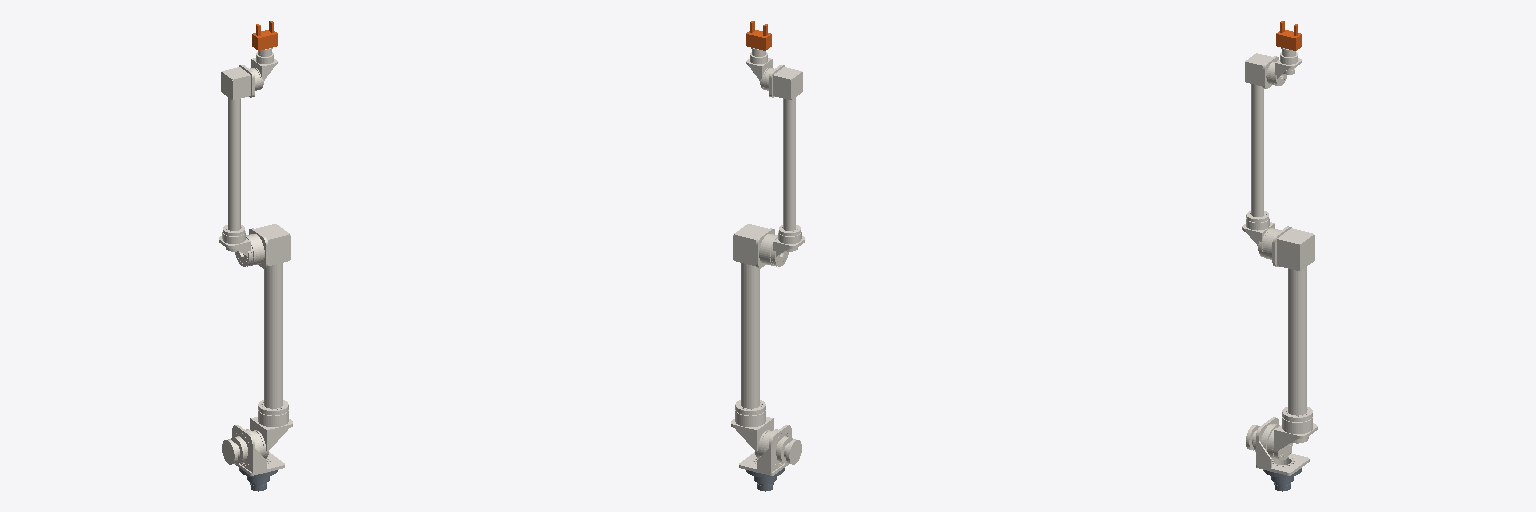
URDF robot description (RTC7):
<?xml version="1.0"?>
<!-- RTC-7 - GENERATED by tools/urdf_export.py from robot/RTC-7-layout.txt, links/LINK-n,
     joints/*; zero pose = the arm stretched up (as in the SolidWorks assembly). Units m, kg, kg*m^2. -->
<robot name="RTC7">
  <material name="link"><color rgba="0.906 0.890 0.855 1"/></material>
  <material name="joint"><color rgba="0.239 0.263 0.294 1"/></material>
  <material name="output"><color rgba="0.663 0.694 0.729 1"/></material>
  <material name="motor"><color rgba="0.145 0.157 0.173 1"/></material>
  <material name="opu"><color rgba="0.490 0.522 0.561 1"/></material>
  <material name="tool"><color rgba="0.910 0.455 0.184 1"/></material>
  <link name="base_link">
    <inertial><origin xyz="0.000000 0.000000 -0.050857" rpy="0 0 0"/><mass value="8.3611"/><inertia ixx="4.553516e-02" ixy="-3.541692e-18" ixz="-7.934830e-19" iyy="4.553516e-02" iyz="-3.295657e-18" izz="5.782221e-02"/></inertial>
    <visual><origin xyz="0 0 0" rpy="0 0 0"/><geometry><mesh filename="meshes/base_link.stl" scale="1 1 1"/></geometry><material name="opu"/></visual>
  </link>
  <link name="link_1">
    <inertial><origin xyz="-0.070477 0.000000 0.092740" rpy="0 0 0"/><mass value="25.9774"/><inertia ixx="2.537331e-01" ixy="-4.162580e-18" ixz="8.081683e-02" iyy="2.976854e-01" iyz="-8.012673e-18" izz="2.140170e-01"/></inertial>
    <visual><origin xyz="0 0 0" rpy="0 0 0"/><geometry><mesh filename="meshes/link_1.stl" scale="1 1 1"/></geometry><material name="link"/></visual>
  </link>
  <link name="link_2">
    <inertial><origin xyz="0.071983 -0.000000 0.104474" rpy="0 0 0"/><mass value="16.2116"/><inertia ixx="1.310031e-01" ixy="2.206815e-18" ixz="-4.930660e-02" iyy="1.559268e-01" iyz="1.013578e-17" izz="1.050967e-01"/></inertial>
    <visual><origin xyz="0 0 0" rpy="0 0 0"/><geometry><mesh filename="meshes/link_2.stl" scale="1 1 1"/></geometry><material name="link"/></visual>
  </link>
  <link name="link_3">
    <inertial><origin xyz="-0.056728 -0.000000 1.002128" rpy="0 0 0"/><mass value="24.0760"/><inertia ixx="5.201550e+00" ixy="-3.607587e-18" ixz="4.477993e-01" iyy="5.277423e+00" iyz="-2.864566e-16" izz="1.950703e-01"/></inertial>
    <visual><origin xyz="0 0 0" rpy="0 0 0"/><geometry><mesh filename="meshes/link_3.stl" scale="1 1 1"/></geometry><material name="link"/></visual>
  </link>
  <link name="link_4">
    <inertial><origin xyz="-0.239577 0.000000 0.051138" rpy="0 0 0"/><mass value="9.3405"/><inertia ixx="5.276059e-02" ixy="1.270830e-18" ixz="1.858500e-02" iyy="5.777456e-02" iyz="1.091613e-17" izz="3.855573e-02"/></inertial>
    <visual><origin xyz="0 0 0" rpy="0 0 0"/><geometry><mesh filename="meshes/link_4.stl" scale="1 1 1"/></geometry><material name="link"/></visual>
  </link>
  <link name="link_5">
    <inertial><origin xyz="0.045689 0.000000 0.866167" rpy="0 0 0"/><mass value="10.7593"/><inertia ixx="1.787917e+00" ixy="1.305176e-16" ixz="-1.395267e-01" iyy="1.809226e+00" iyz="-3.718897e-16" izz="5.248579e-02"/></inertial>
    <visual><origin xyz="0 0 0" rpy="0 0 0"/><geometry><mesh filename="meshes/link_5.stl" scale="1 1 1"/></geometry><material name="link"/></visual>
  </link>
  <link name="link_6">
    <inertial><origin xyz="0.193244 0.000000 0.061610" rpy="0 0 0"/><mass value="4.5924"/><inertia ixx="1.945535e-02" ixy="1.150183e-19" ixz="-6.812753e-03" iyy="2.154391e-02" iyz="7.190132e-18" izz="1.149525e-02"/></inertial>
    <visual><origin xyz="0 0 0" rpy="0 0 0"/><geometry><mesh filename="meshes/link_6.stl" scale="1 1 1"/></geometry><material name="link"/></visual>
  </link>
  <link name="link_7">
    <inertial><origin xyz="0.000000 0.000000 0.179531" rpy="0 0 0"/><mass value="4.6900"/><inertia ixx="3.776028e-03" ixy="-6.133020e-19" ixz="0.000000e+00" iyy="3.776028e-03" iyz="2.763075e-19" izz="4.851211e-03"/></inertial>
    <visual><origin xyz="0 0 0" rpy="0 0 0"/><geometry><mesh filename="meshes/link_7.stl" scale="1 1 1"/></geometry><material name="link"/></visual>
  </link>
  <joint name="J1" type="revolute">
    <!-- SHM-150m; reducer rated torque 103 N*m (effort); velocity ASSUMED -->
    <parent link="base_link"/><child link="link_1"/>
    <origin xyz="0.000000 0.000000 0.000000" rpy="0 0 0"/>
    <axis xyz="0 0 1"/>
    <limit lower="-3.14159" upper="3.14159" effort="103" velocity="3.14"/>
  </joint>
  <joint name="J2" type="revolute">
    <!-- SHM-1000; reducer rated torque 1000 N*m (effort); velocity ASSUMED -->
    <parent link="link_1"/><child link="link_2"/>
    <origin xyz="0.000000 0.000000 0.137000" rpy="0 0 0"/>
    <axis xyz="1 0 0"/>
    <limit lower="-1.64061" upper="1.64061" effort="1000" velocity="3.14"/>
  </joint>
  <joint name="J3" type="revolute">
    <!-- SHM-500; reducer rated torque 375 N*m (effort); velocity ASSUMED -->
    <parent link="link_2"/><child link="link_3"/>
    <origin xyz="0.105000 0.000000 0.000000" rpy="0 0 0"/>
    <axis xyz="0 0 1"/>
    <limit lower="-3.14159" upper="3.14159" effort="375" velocity="3.14"/>
  </joint>
  <joint name="J4" type="revolute">
    <!-- SHM-500; reducer rated torque 375 N*m (effort); velocity ASSUMED -->
    <parent link="link_3"/><child link="link_4"/>
    <origin xyz="0.000000 0.000000 1.330000" rpy="0 0 0"/>
    <axis xyz="1 0 0"/>
    <limit lower="-2.98451" upper="2.98451" effort="375" velocity="3.14"/>
  </joint>
  <joint name="J5" type="revolute">
    <!-- SHM-150; reducer rated torque 103 N*m (effort); velocity ASSUMED -->
    <parent link="link_4"/><child link="link_5"/>
    <origin xyz="-0.279000 0.000000 0.000000" rpy="0 0 0"/>
    <axis xyz="0 0 1"/>
    <limit lower="-3.14159" upper="3.14159" effort="103" velocity="3.14"/>
  </joint>
  <joint name="J6" type="revolute">
    <!-- SHM-150; reducer rated torque 103 N*m (effort); velocity ASSUMED -->
    <parent link="link_5"/><child link="link_6"/>
    <origin xyz="0.000000 0.000000 1.150000" rpy="0 0 0"/>
    <axis xyz="1 0 0"/>
    <limit lower="-3.14159" upper="3.14159" effort="103" velocity="3.14"/>
  </joint>
  <joint name="J7" type="revolute">
    <!-- SHM-60; reducer rated torque 62 N*m (effort); velocity ASSUMED -->
    <parent link="link_6"/><child link="link_7"/>
    <origin xyz="0.219500 0.000000 0.000000" rpy="0 0 0"/>
    <axis xyz="0 0 1"/>
    <limit lower="-3.14159" upper="3.14159" effort="62" velocity="3.14"/>
  </joint>
  <link name="tool">
    <inertial><origin xyz="0.000000 0.000000 0.261000" rpy="0 0 0"/><mass value="8.0000"/><inertia ixx="3.093333e-02" ixy="0.000000e+00" ixz="0.000000e+00" iyy="3.093333e-02" iyz="0.000000e+00" izz="8.533333e-03"/></inertial>
    <visual><origin xyz="0 0 0" rpy="0 0 0"/><geometry><mesh filename="meshes/tool.stl" scale="1 1 1"/></geometry><material name="tool"/></visual>
  </link>
  <joint name="tool_fixed" type="fixed"><parent link="link_7"/><child link="tool"/><origin xyz="0 0 0" rpy="0 0 0"/></joint>
  <link name="tcp"/>
  <joint name="tcp_fixed" type="fixed"><parent link="tool"/><child link="tcp"/><origin xyz="0.000000 0.000000 0.361000" rpy="0 0 0"/></joint>
</robot>

--- Render facts (derived) ---
The picture shows the robot from 3 angles, left to right: view 1: azimuth 30°, elevation 25°; view 2: azimuth 150°, elevation 25°; view 3: azimuth 330°, elevation 25°; orthographic projection.
Robot: RTC7 — 10 links, 9 joints (7 revolute, 2 fixed); root link base_link; default pose: every joint at zero.
Visible links, largest first — view 1: link_3, link_5, link_1, link_2, link_4, tool; view 2: link_3, link_5, link_1, link_2, link_4, tool; view 3: link_3, link_5, link_1, link_2, link_4, tool, link_6.
Boxes of the visible links, left/top/right/bottom form: link_3: left=243, top=224, right=290, bottom=415; link_5: left=221, top=65, right=260, bottom=235; link_1: left=222, top=425, right=284, bottom=475; link_2: left=250, top=410, right=292, bottom=458; link_4: left=219, top=231, right=253, bottom=266; tool: left=252, top=21, right=277, bottom=50; link_3: left=733, top=224, right=780, bottom=415; link_5: left=763, top=65, right=802, bottom=235; link_1: left=739, top=425, right=801, bottom=475; link_2: left=731, top=410, right=773, bottom=458; link_4: left=770, top=231, right=804, bottom=266; tool: left=746, top=21, right=771, bottom=50; link_3: left=1262, top=226, right=1314, bottom=421; link_5: left=1245, top=53, right=1282, bottom=222; link_1: left=1246, top=417, right=1309, bottom=475; link_2: left=1273, top=417, right=1317, bottom=460; link_4: left=1242, top=218, right=1274, bottom=257; tool: left=1276, top=21, right=1301, bottom=50; link_6: left=1274, top=52, right=1301, bottom=85.
Bounding box of the posed robot: 0.459 × 0.25 × 3.13 m (x, y, z).
Meshes: 9 distinct files referenced, 9 mesh visuals loaded (9 binary STL).
